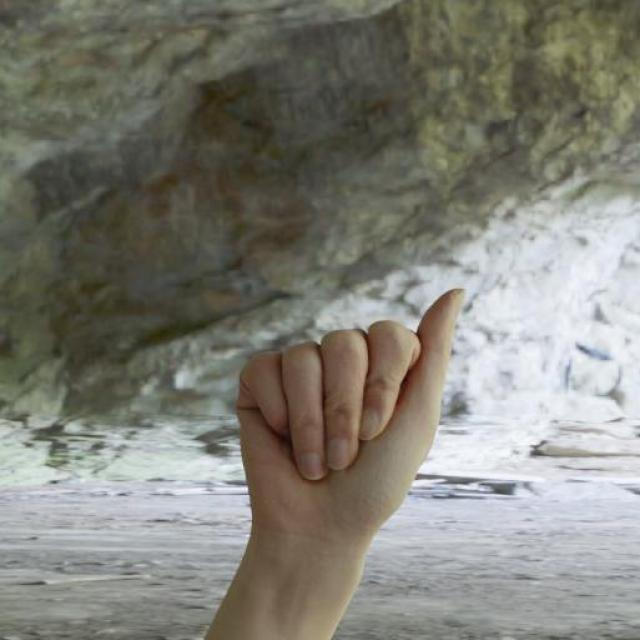A: (216, 278, 478, 558)
